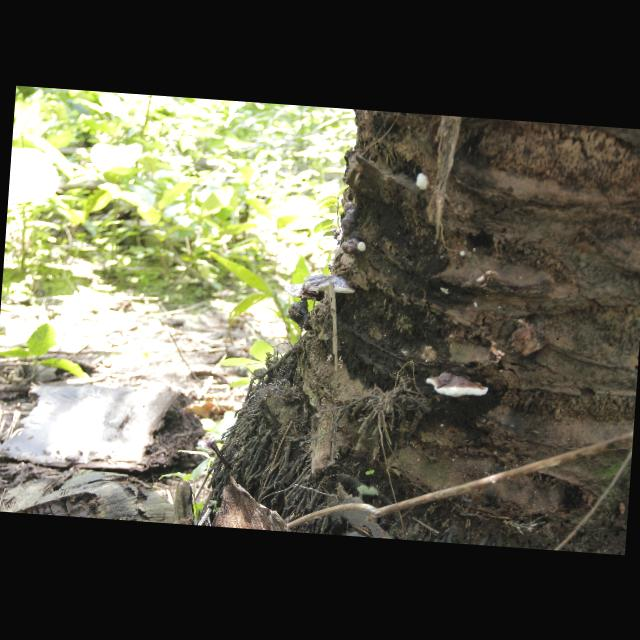ganoderma: (425, 371, 493, 402), (339, 202, 363, 256), (304, 273, 358, 296), (285, 283, 328, 304)
primordium: (416, 173, 432, 191), (358, 242, 368, 254), (460, 251, 466, 257)
